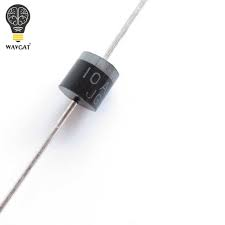diode: (38, 41, 139, 136)
